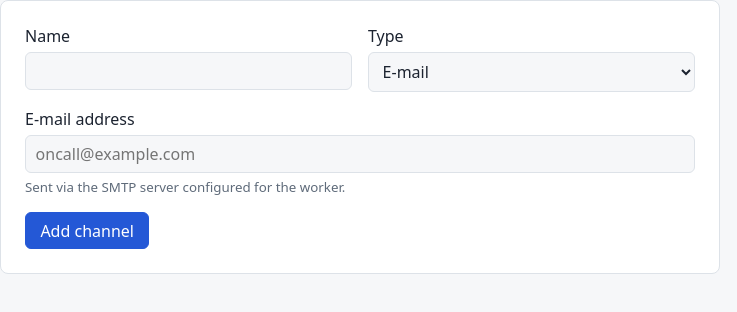
Test: AlertChannelForm › requires name and target
Click the button "Add channel" at (87, 230), box [25,212,149,249]
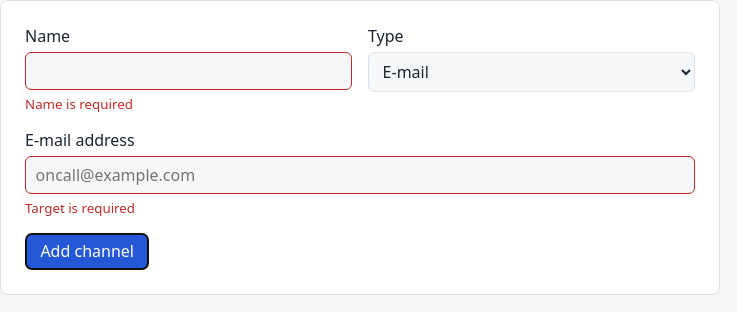
Expected: the text "Name is required" is shown, [25,95,133,113]
Expected: the text "Target is required" is shown, [25,199,135,217]
